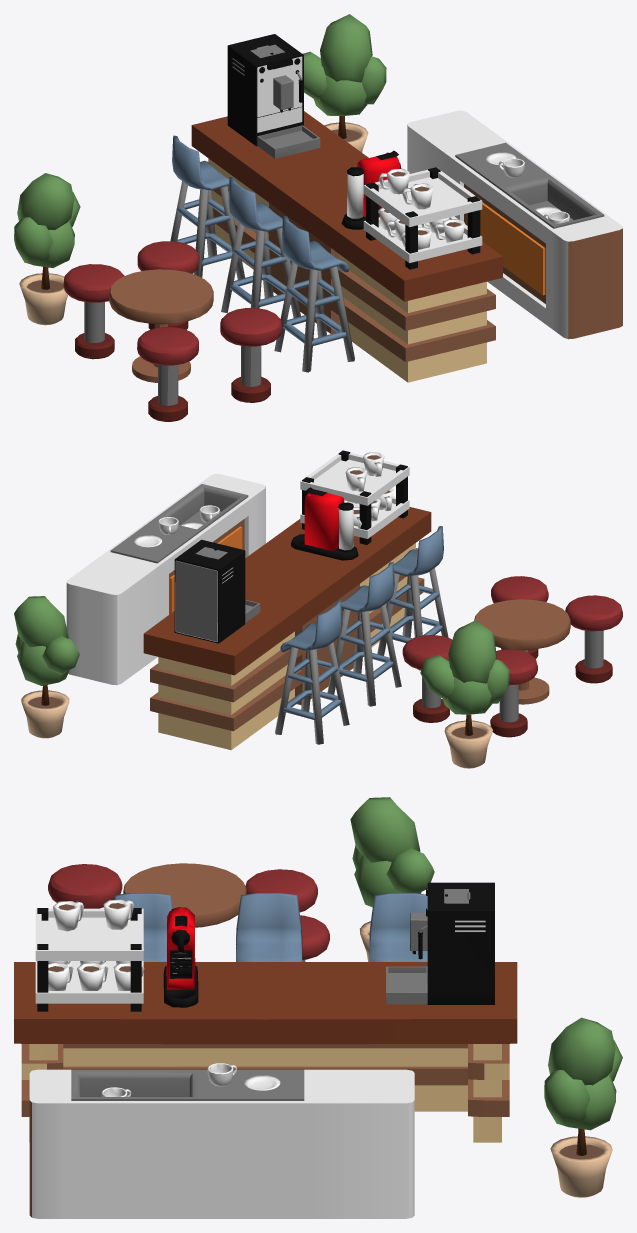
File: coffeShopInter.fbx
The picture shows the model from 3 angles, top to bottom: view 1: azimuth 30°, elevation 25°; view 2: azimuth 150°, elevation 25°; view 3: azimuth 270°, elevation 25°; orthographic projection. The views are drawn at different scales.
Visible parts, largest first — view 1: Plane.1142, Cube.11211, Cube.11267, Cube.11241, Circle.797, Circle.796, Cube.11240, Cube.11213, Circle.748, Circle.753, Circle.758, spoon.039; view 2: Plane.1142, Cube.11211, Cube.11267, Circle.797, Cube.11241, Circle.796, Cube.11240, Cube.11213, Circle.748, Circle.758, Circle.753, spoon.039; view 3: Plane.1142, Cube.11211, Cube.11241, Circle.797, Cube.11240, Cube.11267, Cube.11213, Circle.796, Circle.748, Circle.753, Circle.758, spoon.039.
Part boxes in pixels (box(x1,y1,x2,y2)): Plane.1142: box(407, 110, 622, 339); Cube.11211: box(191, 111, 502, 301); Cube.11267: box(170, 135, 354, 372); Cube.11241: box(199, 158, 495, 382); Circle.797: box(14, 14, 386, 325); Circle.796: box(63, 241, 281, 421); Cube.11240: box(227, 34, 320, 158); Cube.11213: box(363, 167, 482, 269); Circle.748: box(109, 269, 213, 382); Circle.753: box(378, 168, 464, 249); Circle.758: box(341, 150, 401, 229); spoon.039: box(498, 158, 569, 224); Plane.1142: box(66, 474, 265, 685); Cube.11211: box(143, 507, 431, 675); Cube.11267: box(275, 526, 448, 744); Circle.797: box(14, 596, 509, 768); Cube.11241: box(150, 543, 424, 750); Circle.796: box(402, 576, 622, 737); Cube.11240: box(174, 539, 260, 643); Cube.11213: box(300, 450, 409, 544); Circle.748: box(474, 599, 570, 704); Circle.758: box(290, 487, 358, 560); Circle.753: box(344, 452, 393, 528); spoon.039: box(158, 505, 219, 534); Plane.1142: box(29, 1069, 414, 1218); Cube.11211: box(14, 962, 517, 1044); Cube.11241: box(21, 1044, 509, 1142); Circle.797: box(350, 797, 622, 1197); Cube.11240: box(386, 882, 494, 1004); Cube.11267: box(114, 893, 427, 961); Cube.11213: box(35, 908, 143, 1011); Circle.796: box(48, 864, 329, 961); Circle.748: box(123, 863, 246, 927); Circle.753: box(48, 899, 144, 990); Circle.758: box(163, 907, 198, 1007); spoon.039: box(101, 1063, 236, 1096).
Bounding box in the file's own units: 0.2977 × 0.117 × 0.2867.
